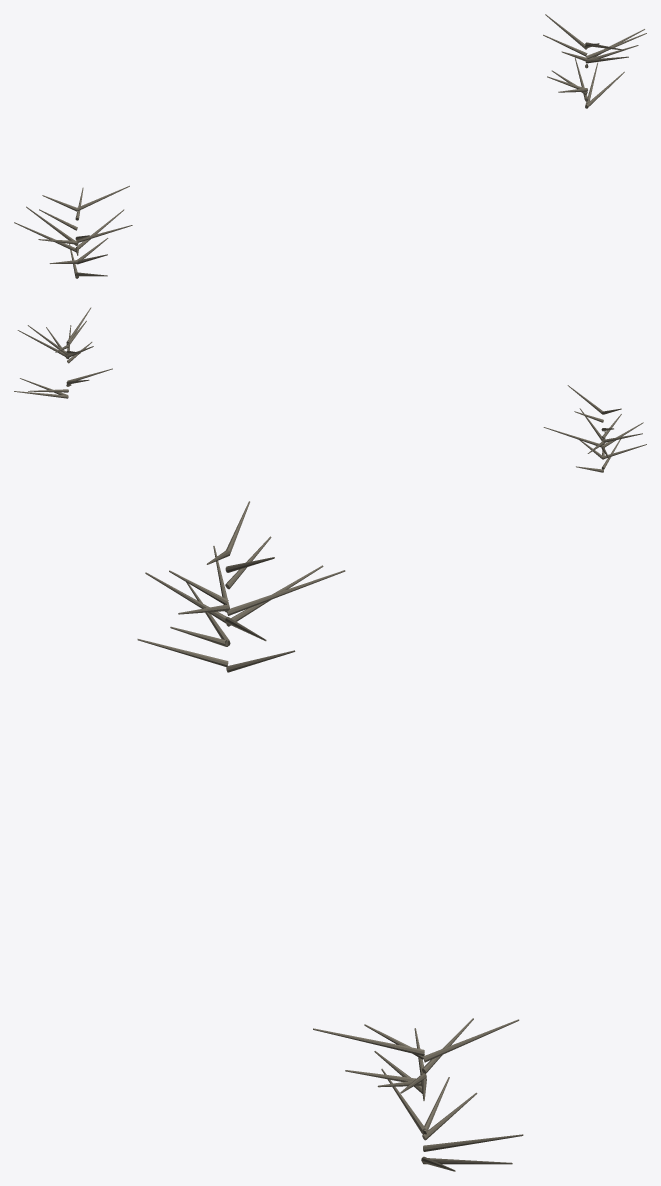
File: xiyuan-vegetation-17-near.glb
3 renders of one model, top to bottom at view 1: azimuth 30°, elevation 25°; view 2: azimuth 150°, elevation 25°; view 3: azimuth 270°, elevation 25°, orthographic. The views are drawn at different scales.
Parts seen in each view (by area): view 1: vegetation broadleaf branches; view 2: vegetation broadleaf branches; view 3: vegetation broadleaf branches.
Part boxes in pixels (left/top/right/bottom): vegetation broadleaf branches: left=14, top=14, right=646, bottom=278; vegetation broadleaf branches: left=14, top=307, right=646, bottom=472; vegetation broadleaf branches: left=137, top=501, right=523, bottom=1171.
Bounding box in the file's own units: 33.93 × 4.68 × 9.9.
